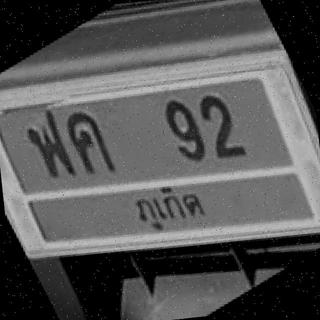A04: (64, 87, 129, 189)
A31: (16, 100, 76, 193)
N02: (190, 84, 259, 175)
N09: (148, 84, 211, 185)
P48: (113, 174, 227, 238)
